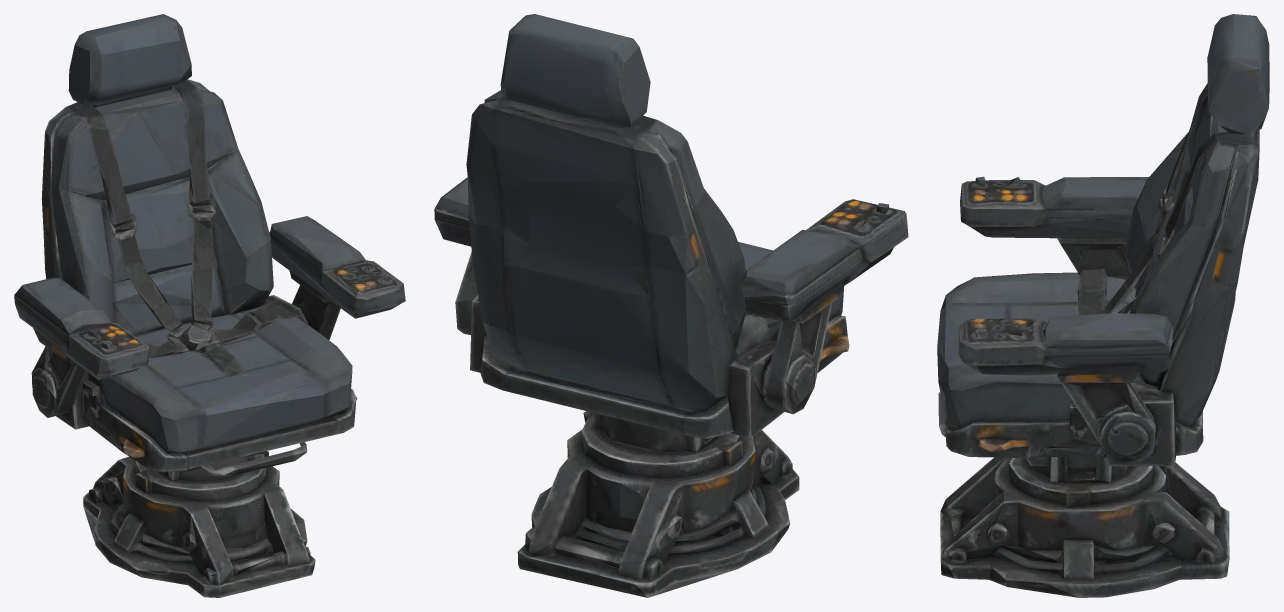
File: chair.glb
3 views of the same model, side by side, from view 1: azimuth 30°, elevation 25°; view 2: azimuth 150°, elevation 25°; view 3: azimuth 270°, elevation 25° (orthographic). The views are drawn at different scales.
Parts seen in each view (by area): view 1: Mesh_0; view 2: Mesh_0; view 3: Mesh_0.
Part boxes in pixels (<box>): Mesh_0: <box>14,14,405,597</box>; Mesh_0: <box>434,14,908,597</box>; Mesh_0: <box>937,14,1269,597</box>.
Size of the model in its own units: 0.9037 by 1.3 by 0.7588.
1 material, 1 textured.
